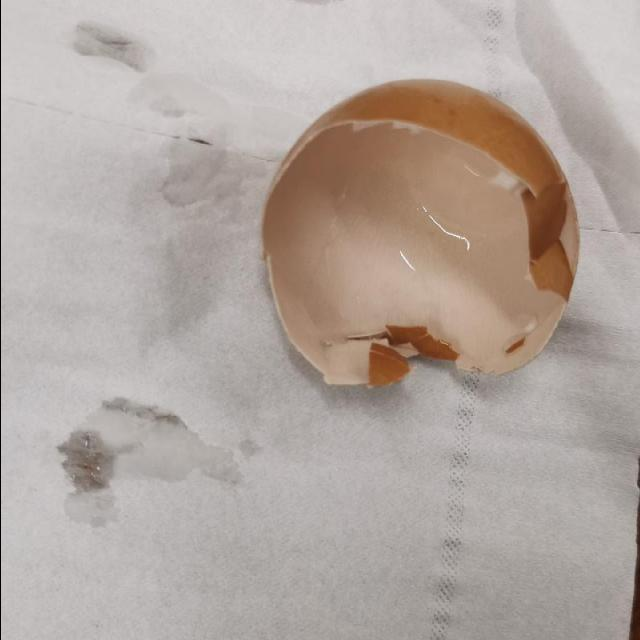egg shell: (257, 74, 579, 394)
